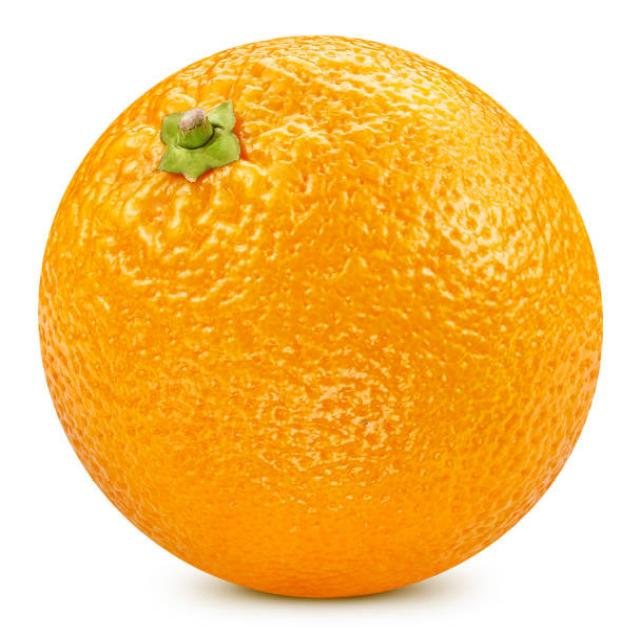Ripe: (33, 19, 608, 601)
